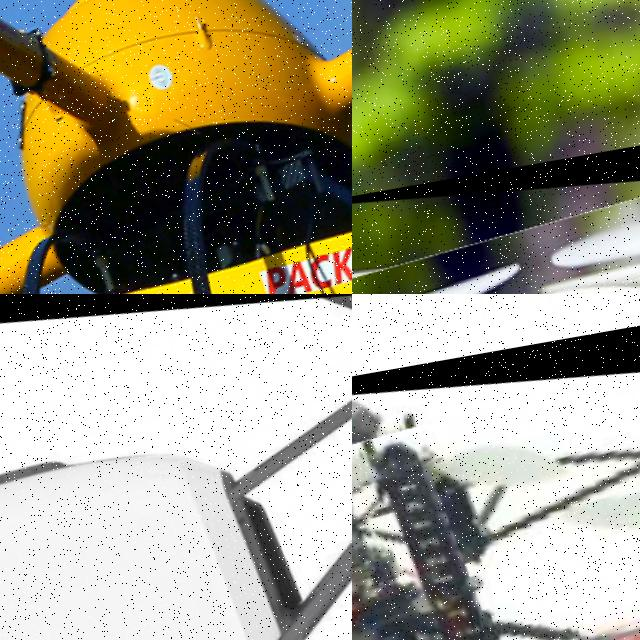drone: (0, 294, 352, 640), (0, 0, 352, 294), (352, 298, 640, 640), (352, 98, 640, 294)
